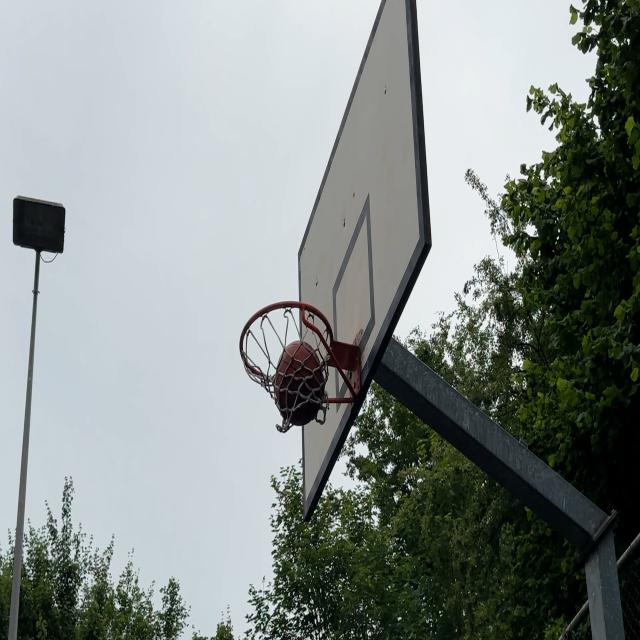Goal: (276, 342, 324, 427)
